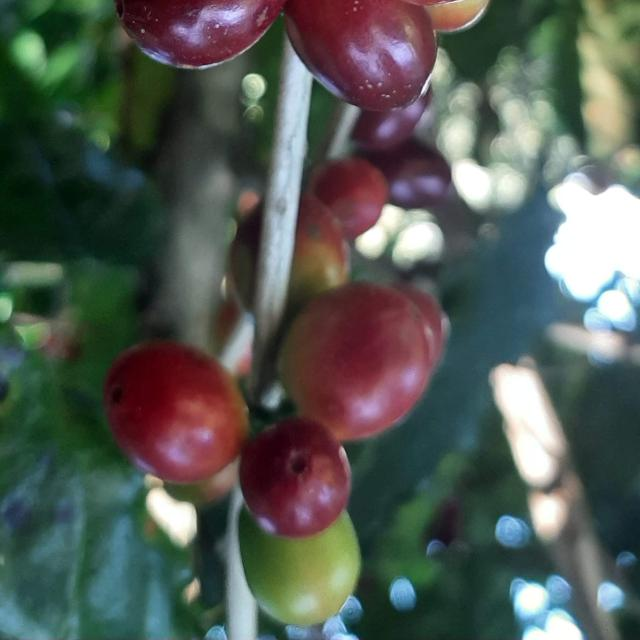green: (239, 511, 361, 627)
red: (103, 341, 249, 484), (284, 0, 438, 110), (239, 418, 351, 539), (115, 0, 286, 68)
yellow: (279, 283, 432, 441), (287, 194, 350, 311), (228, 201, 263, 309)
